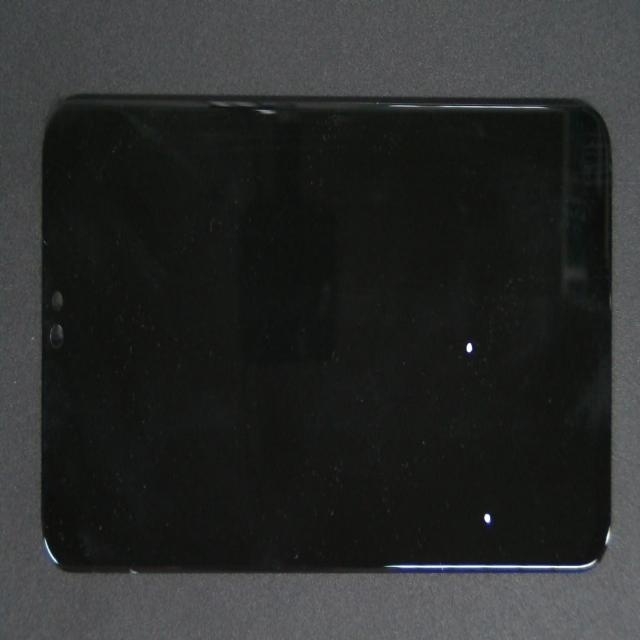stain: (229, 276, 640, 640), (243, 152, 640, 492)
